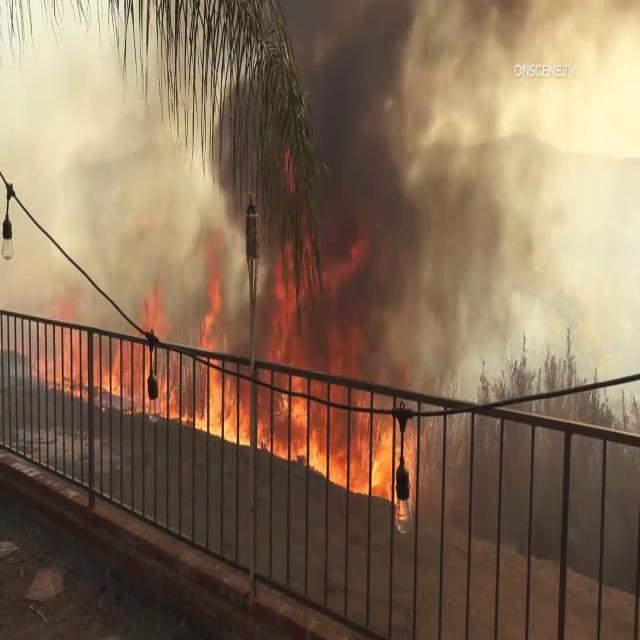Fire: (188, 327, 418, 493)
Smoke: (222, 0, 556, 372), (1, 5, 193, 358)
